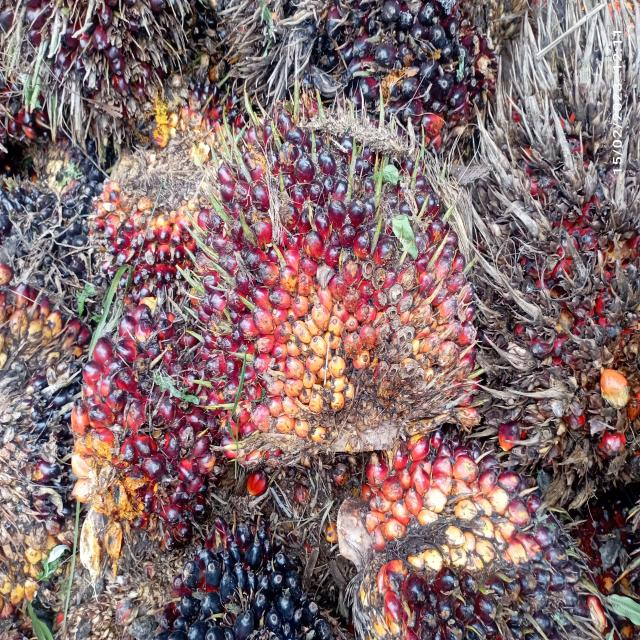fraksi 00: (318, 374, 597, 640)
fraksi 1: (162, 82, 492, 478), (50, 244, 223, 595)
